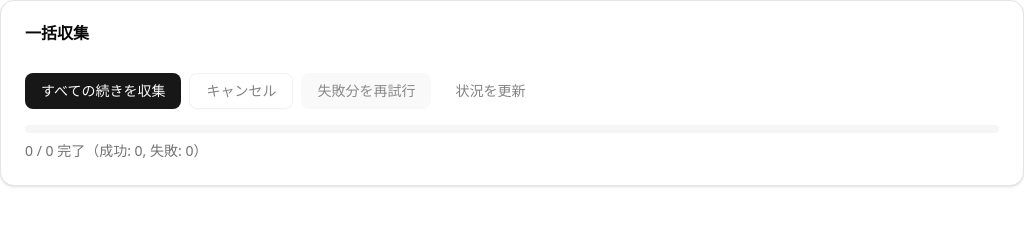
BulkCollectCard › 進捗イベントで進捗表示が更新される
The image size is (1024, 234).
Click the button "すべての続きを収集": (103, 91) [25,73,182,109]
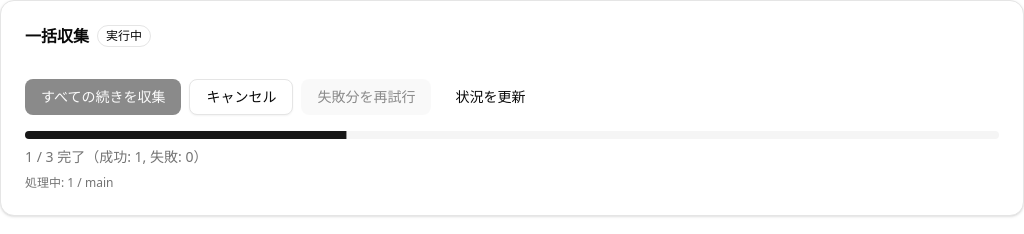
Result: the text "1 / 3 完了（成功: 1, 失敗: 0）" is shown at [25,147,207,166]
